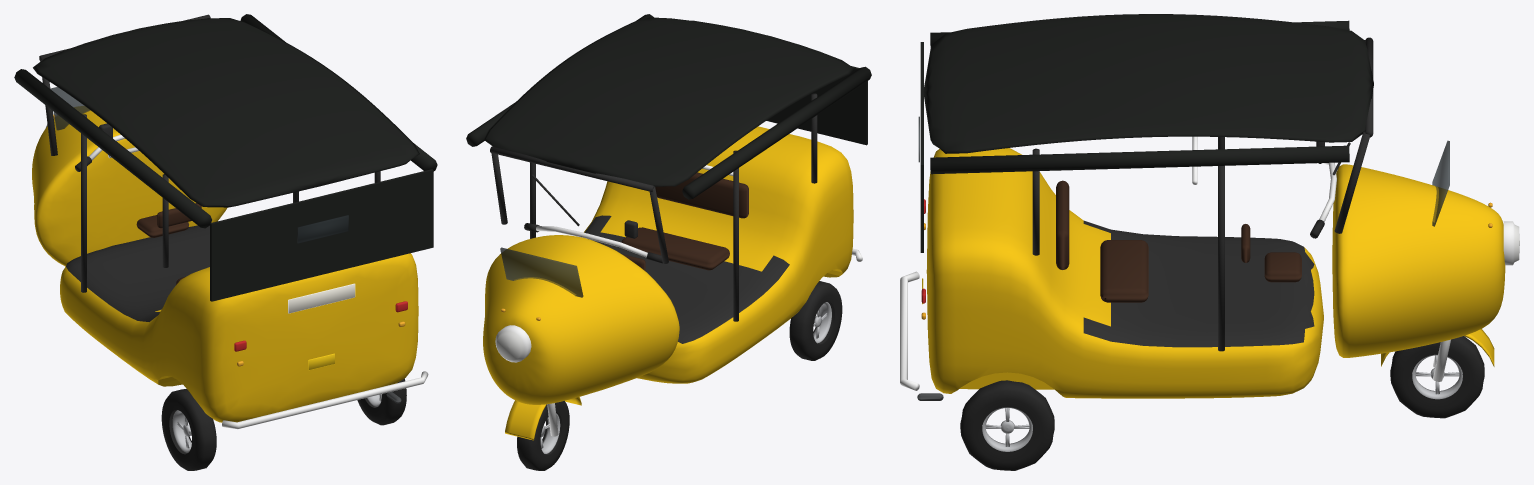
Rendered from auto_1.glb.
3 views of the same model, side by side, from view 1: azimuth 30°, elevation 25°; view 2: azimuth 150°, elevation 25°; view 3: azimuth 270°, elevation 25° (orthographic). The views are drawn at different scales.
Parts seen in each view (by area): view 1: body, wheel_1, wheel_2; view 2: body, wheel_1, wheel_0; view 3: body, wheel_2, wheel_0.
Part boxes in pixels (x1=…): body: x1=14, y1=14, x2=437, y2=429; wheel_1: x1=161, y1=389, x2=216, y2=470; wheel_2: x1=357, y1=378, x2=406, y2=425; body: x1=466, y1=14, x2=871, y2=440; wheel_1: x1=789, y1=281, x2=842, y2=360; wheel_0: x1=517, y1=401, x2=569, y2=470; body: x1=900, y1=14, x2=1519, y2=400; wheel_2: x1=960, y1=380, x2=1054, y2=470; wheel_0: x1=1390, y1=336, x2=1484, y2=418.
Size of the model in its own units: 1.42 by 1.76 by 2.81.
